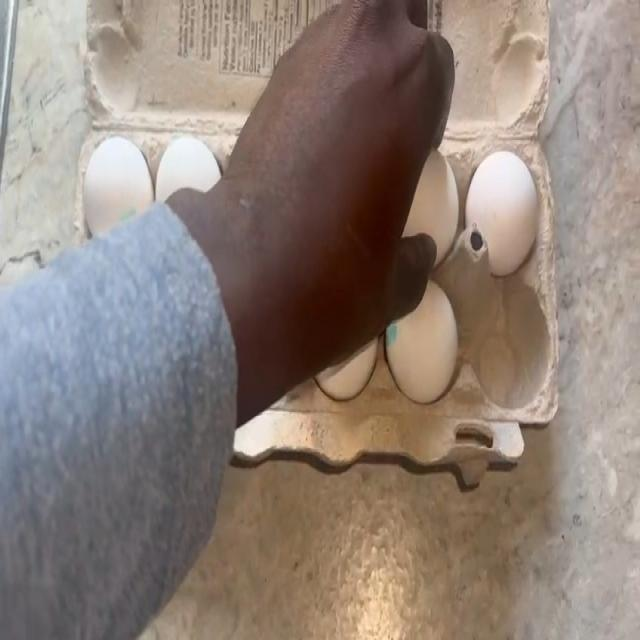Egg: (472, 150, 534, 250), (83, 142, 147, 228), (402, 318, 460, 389), (414, 172, 456, 230), (172, 140, 205, 194), (334, 363, 382, 398)
